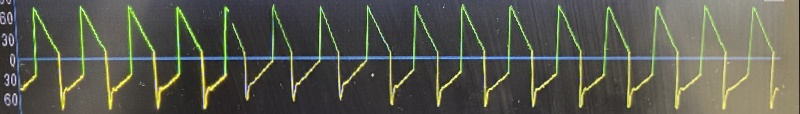peepi: (18, 0, 785, 113)
